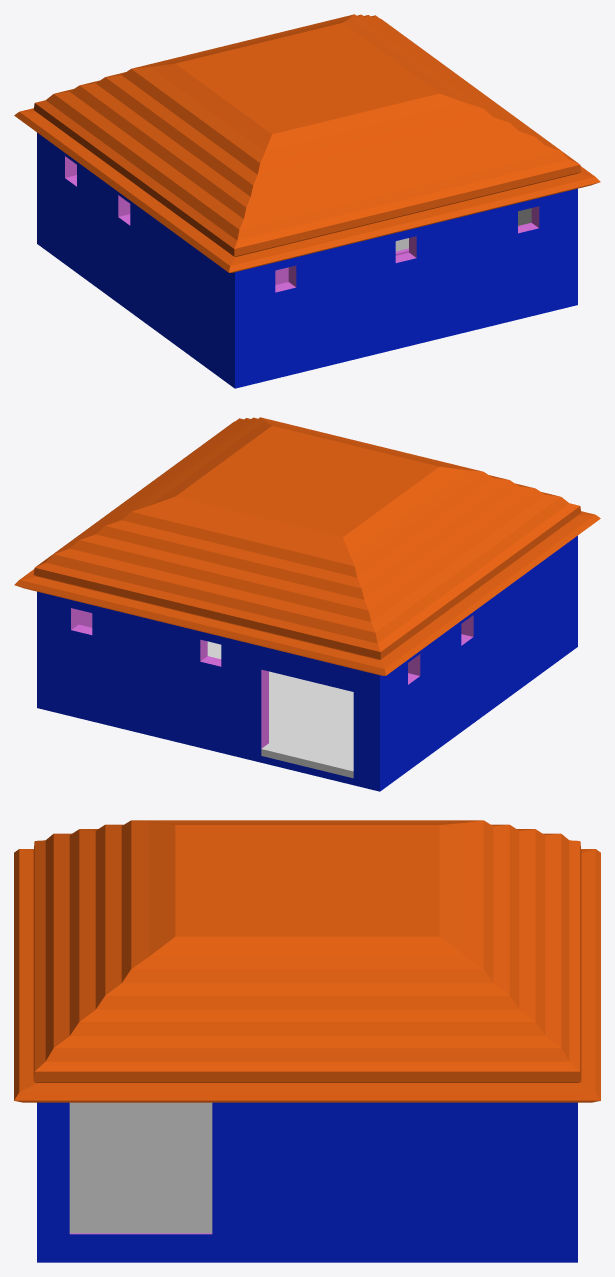
Rendered from LabMetalografiaV6.fbx.
3 renders of one model, top to bottom at view 1: azimuth 30°, elevation 25°; view 2: azimuth 150°, elevation 25°; view 3: azimuth 270°, elevation 25°, orthographic. The views are drawn at different scales.
Parts seen in each view (by area): view 1: Techo, ParedesExternas, ParedesInternas; view 2: Techo, ParedesExternas, Piso, ParedesInternas; view 3: Techo, ParedesExternas, Ventanas.
Part boxes in pixels (x1=…): Techo: x1=14, y1=14, x2=600, y2=272; ParedesExternas: x1=37, y1=132, x2=577, y2=388; ParedesInternas: x1=65, y1=156, x2=539, y2=292; Techo: x1=14, y1=417, x2=600, y2=675; ParedesExternas: x1=37, y1=535, x2=577, y2=791; Piso: x1=207, y1=641, x2=353, y2=778; ParedesInternas: x1=71, y1=608, x2=473, y2=748; Techo: x1=14, y1=820, x2=600, y2=1102; ParedesExternas: x1=37, y1=1102, x2=577, y2=1262; Ventanas: x1=69, y1=1102, x2=212, y2=1233.
Bounding box in the file's own units: 28.2 × 14.17 × 28.2.
